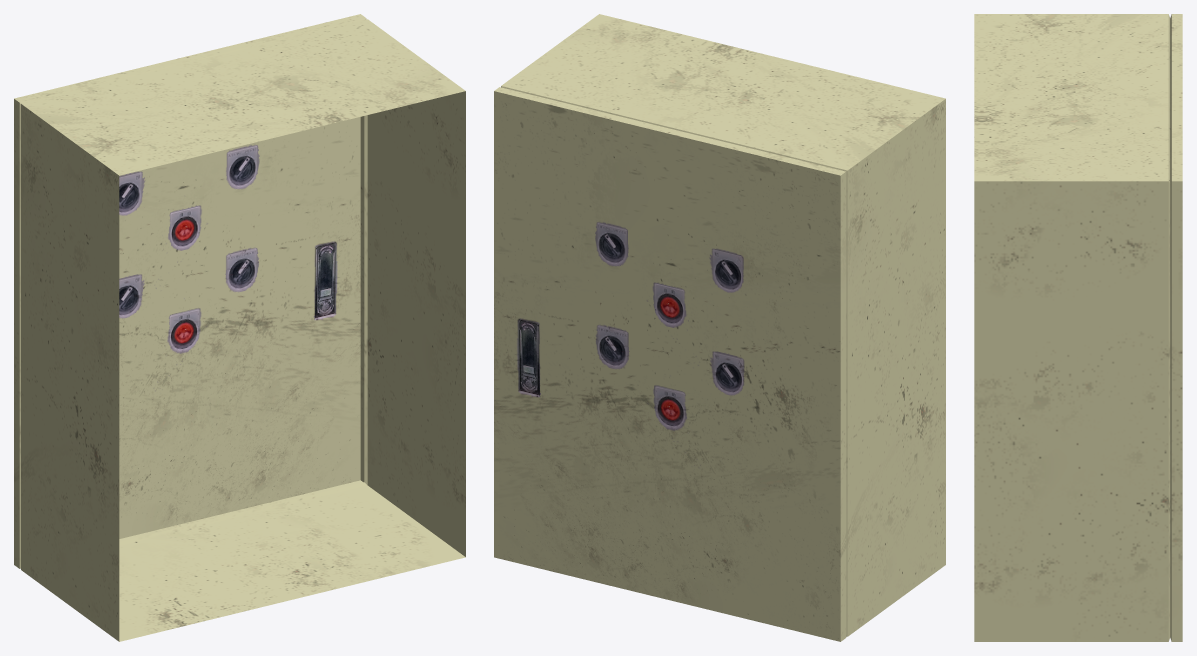
The model's file is controllpanel.fbx.
The picture shows the model from 3 angles, left to right: view 1: azimuth 30°, elevation 25°; view 2: azimuth 150°, elevation 25°; view 3: azimuth 270°, elevation 25°; orthographic projection.
Visible parts, largest first — view 1: controllpanel; view 2: controllpanel; view 3: controllpanel.
Part boxes in pixels (<box>): controllpanel: <box>14,14,465,641</box>; controllpanel: <box>494,14,945,641</box>; controllpanel: <box>974,14,1182,641</box>.
Size of the model in its own units: 49.66 by 63.83 by 26.14.
